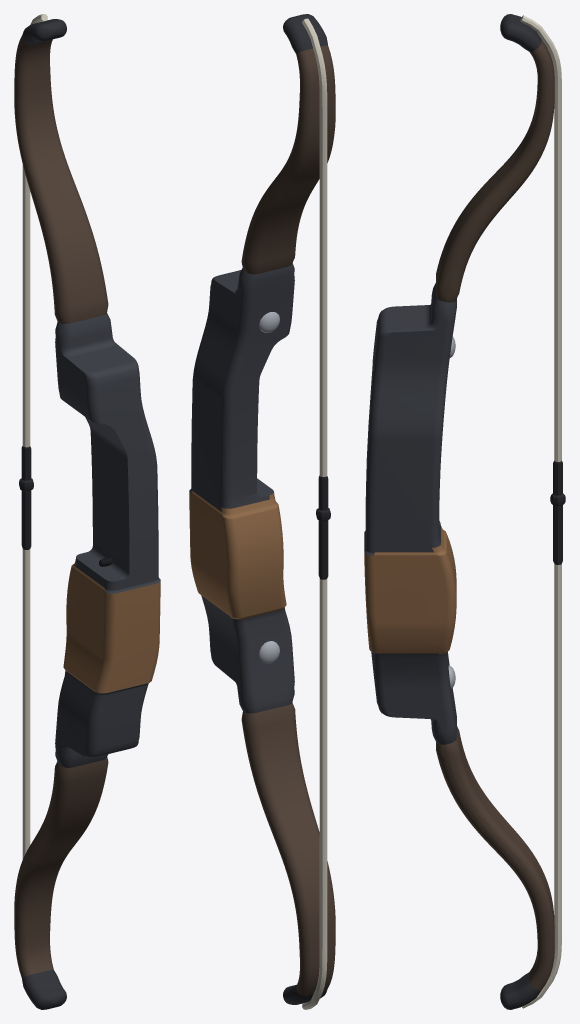
Rendered from w_bow.glb.
3 views of the same model, side by side, from view 1: azimuth 30°, elevation 25°; view 2: azimuth 210°, elevation 25°; view 3: azimuth 270°, elevation 25° (orthographic).
Parts seen in each view (by area): view 1: riser_wzA__riser__p3b3e46, limb_wzB__wood__p4f4036, grip_wzB__leather__p8b6646, string_wzN__cord__pcfc9bb, cap_wzN__cap__p2c2e34, string_wzN__dark__p24252a; view 2: riser_wzA__riser__p3b3e46, limb_wzB__wood__p4f4036, grip_wzB__leather__p8b6646, string_wzN__cord__pcfc9bb, cap_wzN__cap__p2c2e34, lay_wzN__cord__pcfc9bb, string_wzN__dark__p24252a, bolt_wzN__steel__pa3a9b2; view 3: riser_wzA__riser__p3b3e46, limb_wzB__wood__p4f4036, grip_wzB__leather__p8b6646, string_wzN__cord__pcfc9bb, cap_wzN__cap__p2c2e34, lay_wzN__cord__pcfc9bb, string_wzN__dark__p24252a.
Boxes of the visible parts, x1,y1,x2,y2 form: riser_wzA__riser__p3b3e46: (55, 313, 160, 767); limb_wzB__wood__p4f4036: (14, 35, 108, 977); grip_wzB__leather__p8b6646: (63, 561, 160, 693); string_wzN__cord__pcfc9bb: (22, 164, 30, 859); cap_wzN__cap__p2c2e34: (22, 19, 66, 1009); string_wzN__dark__p24252a: (19, 446, 33, 549); riser_wzA__riser__p3b3e46: (189, 263, 294, 713); limb_wzB__wood__p4f4036: (241, 45, 335, 995); grip_wzB__leather__p8b6646: (189, 491, 286, 619); string_wzN__cord__pcfc9bb: (319, 107, 327, 948); cap_wzN__cap__p2c2e34: (283, 14, 327, 1004); lay_wzN__cord__pcfc9bb: (302, 18, 327, 1009); string_wzN__dark__p24252a: (316, 475, 330, 579); bolt_wzN__steel__pa3a9b2: (259, 312, 279, 663); riser_wzA__riser__p3b3e46: (364, 283, 456, 744); limb_wzB__wood__p4f4036: (436, 39, 554, 990); grip_wzB__leather__p8b6646: (364, 526, 456, 654); string_wzN__cord__pcfc9bb: (554, 91, 561, 934); cap_wzN__cap__p2c2e34: (500, 14, 541, 1009); lay_wzN__cord__pcfc9bb: (520, 15, 561, 1008); string_wzN__dark__p24252a: (550, 461, 565, 564).
Bounding box in the file's own units: 0.0603 × 0.8498 × 0.1563.
